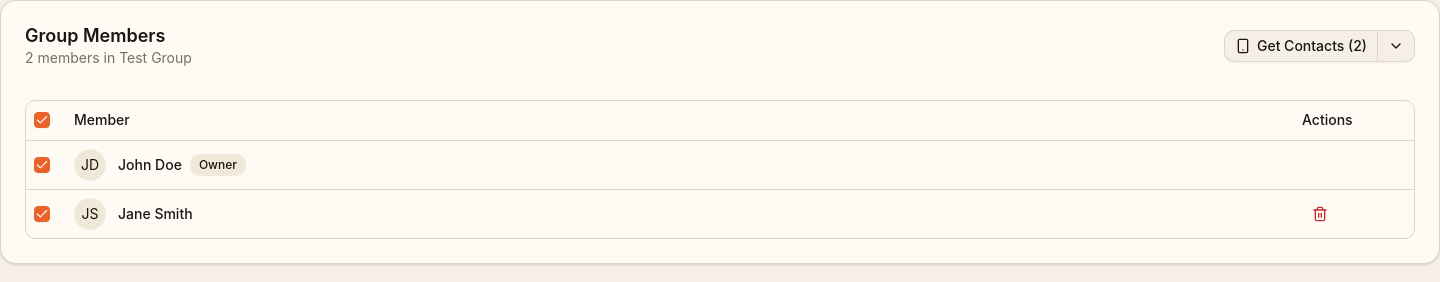
Test: MemberList — export menu › offers Share but never Add on iOS — Add is covered by Get Contacts
The image size is (1440, 282).
Click the button named "Export options". click: {"x": 1396, "y": 46}
box: [1377,30,1415,62]
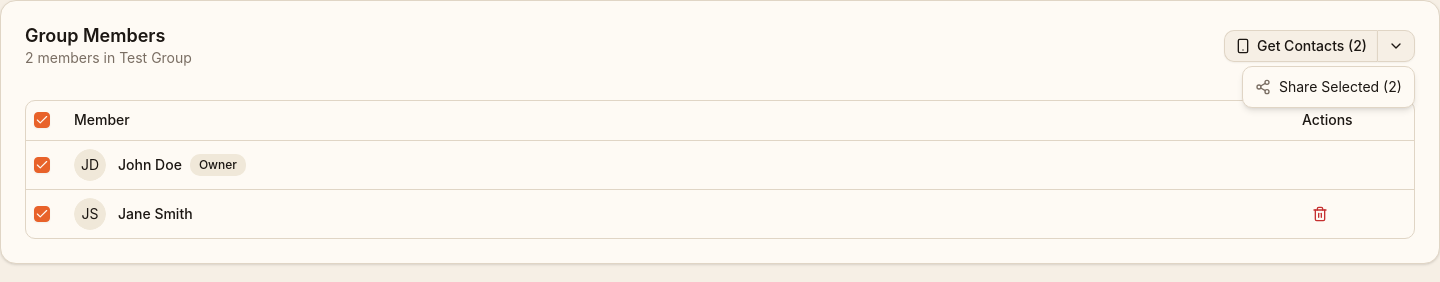
Check: the menu item "Share Selected (2)" is shown, box [1255,78,1402,95]
